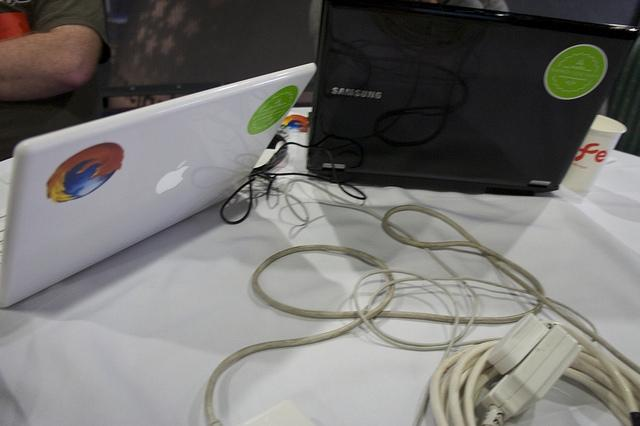apple: (155, 160, 189, 194)
